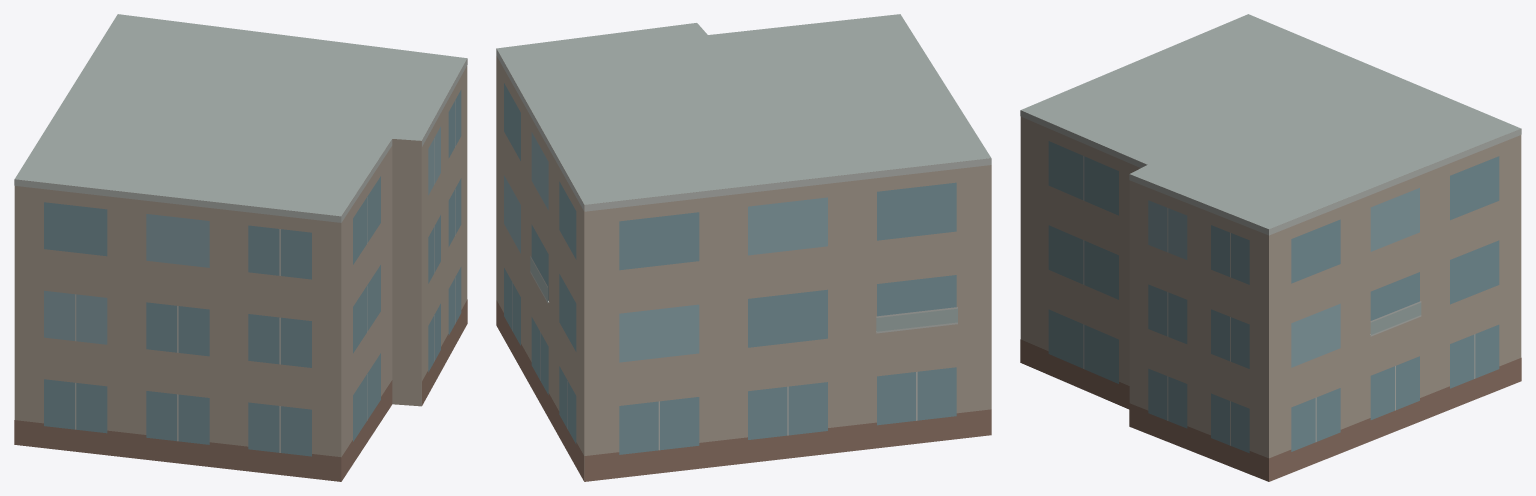
Rendered from survey-upis-32597790.glb.
3 views of the same model, side by side, from view 1: azimuth 30°, elevation 25°; view 2: azimuth 150°, elevation 25°; view 3: azimuth 270°, elevation 25° (orthographic). The views are drawn at different scales.
Parts seen in each view (by area): view 1: survey-upis-32597790.tmp; view 2: survey-upis-32597790.tmp; view 3: survey-upis-32597790.tmp.
Part boxes in pixels (x1,y1,x2,y2): survey-upis-32597790.tmp: (14, 14, 467, 481); survey-upis-32597790.tmp: (496, 14, 991, 481); survey-upis-32597790.tmp: (1020, 14, 1521, 481).
Size of the model in its own units: 18.11 by 9.9 by 17.8.
